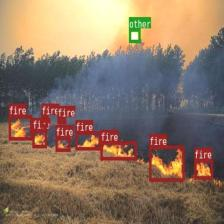fire: (148, 145, 184, 181), (100, 141, 136, 160), (8, 114, 32, 140), (75, 131, 101, 150), (194, 159, 212, 178), (32, 129, 46, 147), (55, 136, 70, 151), (41, 114, 48, 127), (57, 117, 66, 123)
